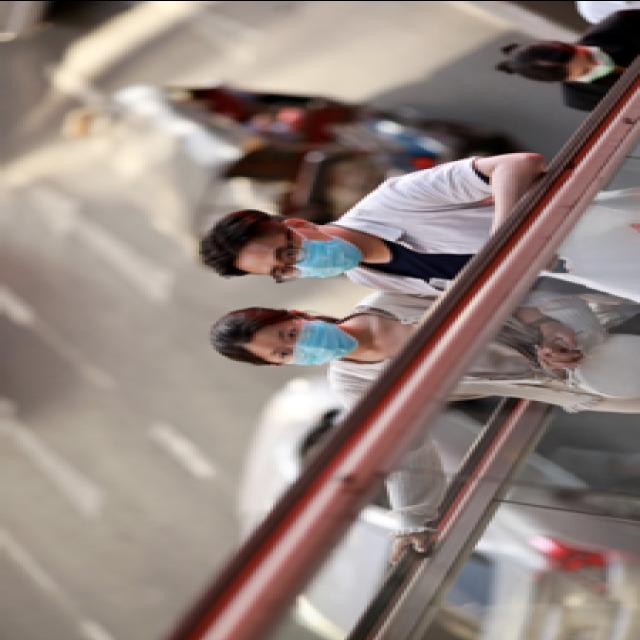mask: (262, 228, 356, 278), (273, 315, 353, 365), (569, 44, 611, 82)
